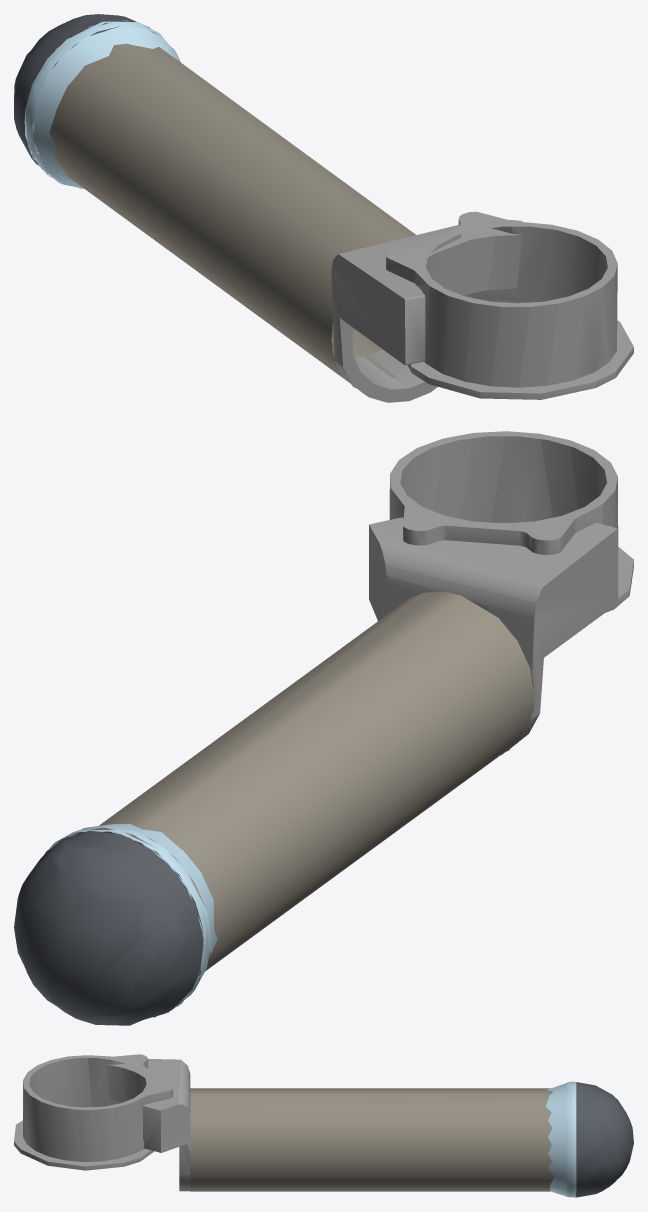
File: RIGHT_ELBOW_PITCH_LINK_298mm_LENGTH.obj
The picture shows the model from 3 angles, top to bottom: view 1: azimuth 30°, elevation 25°; view 2: azimuth 150°, elevation 25°; view 3: azimuth 270°, elevation 25°; orthographic projection. The views are drawn at different scales.
Parts seen in each view (by area): view 1: RIGHT_ELBOW_PITCH_LINK; view 2: RIGHT_ELBOW_PITCH_LINK; view 3: RIGHT_ELBOW_PITCH_LINK.
Boxes of the visible parts, <box> form: RIGHT_ELBOW_PITCH_LINK: <box>14,14,633,402</box>; RIGHT_ELBOW_PITCH_LINK: <box>14,431,633,1025</box>; RIGHT_ELBOW_PITCH_LINK: <box>14,1054,633,1197</box>.
Bounding box in the file's own units: 0.0882 × 0.0736 × 0.3402.
